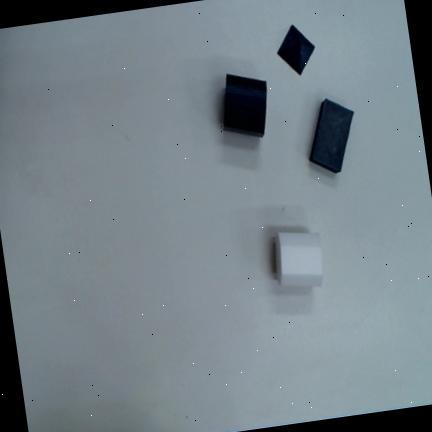Paralelepipedo: (308, 98, 354, 173)
Piramide: (276, 24, 314, 76)
Prisma_hexagonal: (223, 73, 267, 137), (274, 231, 323, 286)
